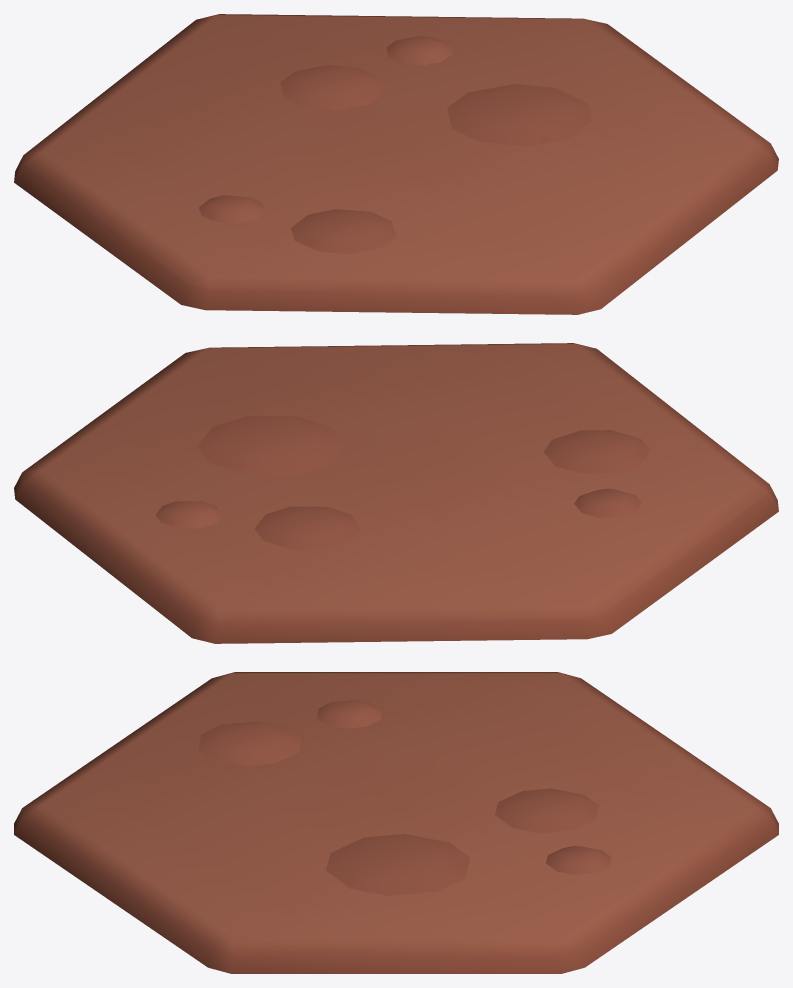
File: building_dirt.glb
The picture shows the model from 3 angles, top to bottom: view 1: azimuth 30°, elevation 25°; view 2: azimuth 150°, elevation 25°; view 3: azimuth 270°, elevation 25°; orthographic projection.
Parts seen in each view (by area): view 1: building_dirt; view 2: building_dirt; view 3: building_dirt.
Part boxes in pixels (x1,y1,x2,y2): building_dirt: [14, 14, 778, 314]; building_dirt: [14, 343, 778, 643]; building_dirt: [14, 672, 778, 973].
Bounding box in the file's own units: 1.79 × 0.0865 × 2.01.
1 material, 1 textured.
